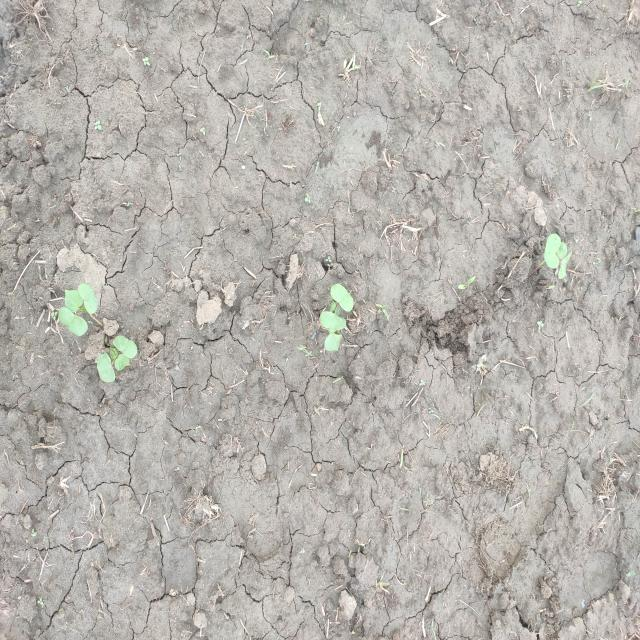seedling: (58, 308, 88, 336), (330, 283, 354, 312), (78, 283, 98, 314), (544, 233, 561, 269), (112, 335, 137, 358), (96, 353, 115, 383), (65, 290, 83, 313), (320, 312, 342, 330), (558, 252, 572, 279), (325, 333, 342, 351), (114, 353, 130, 371), (556, 242, 567, 259)
